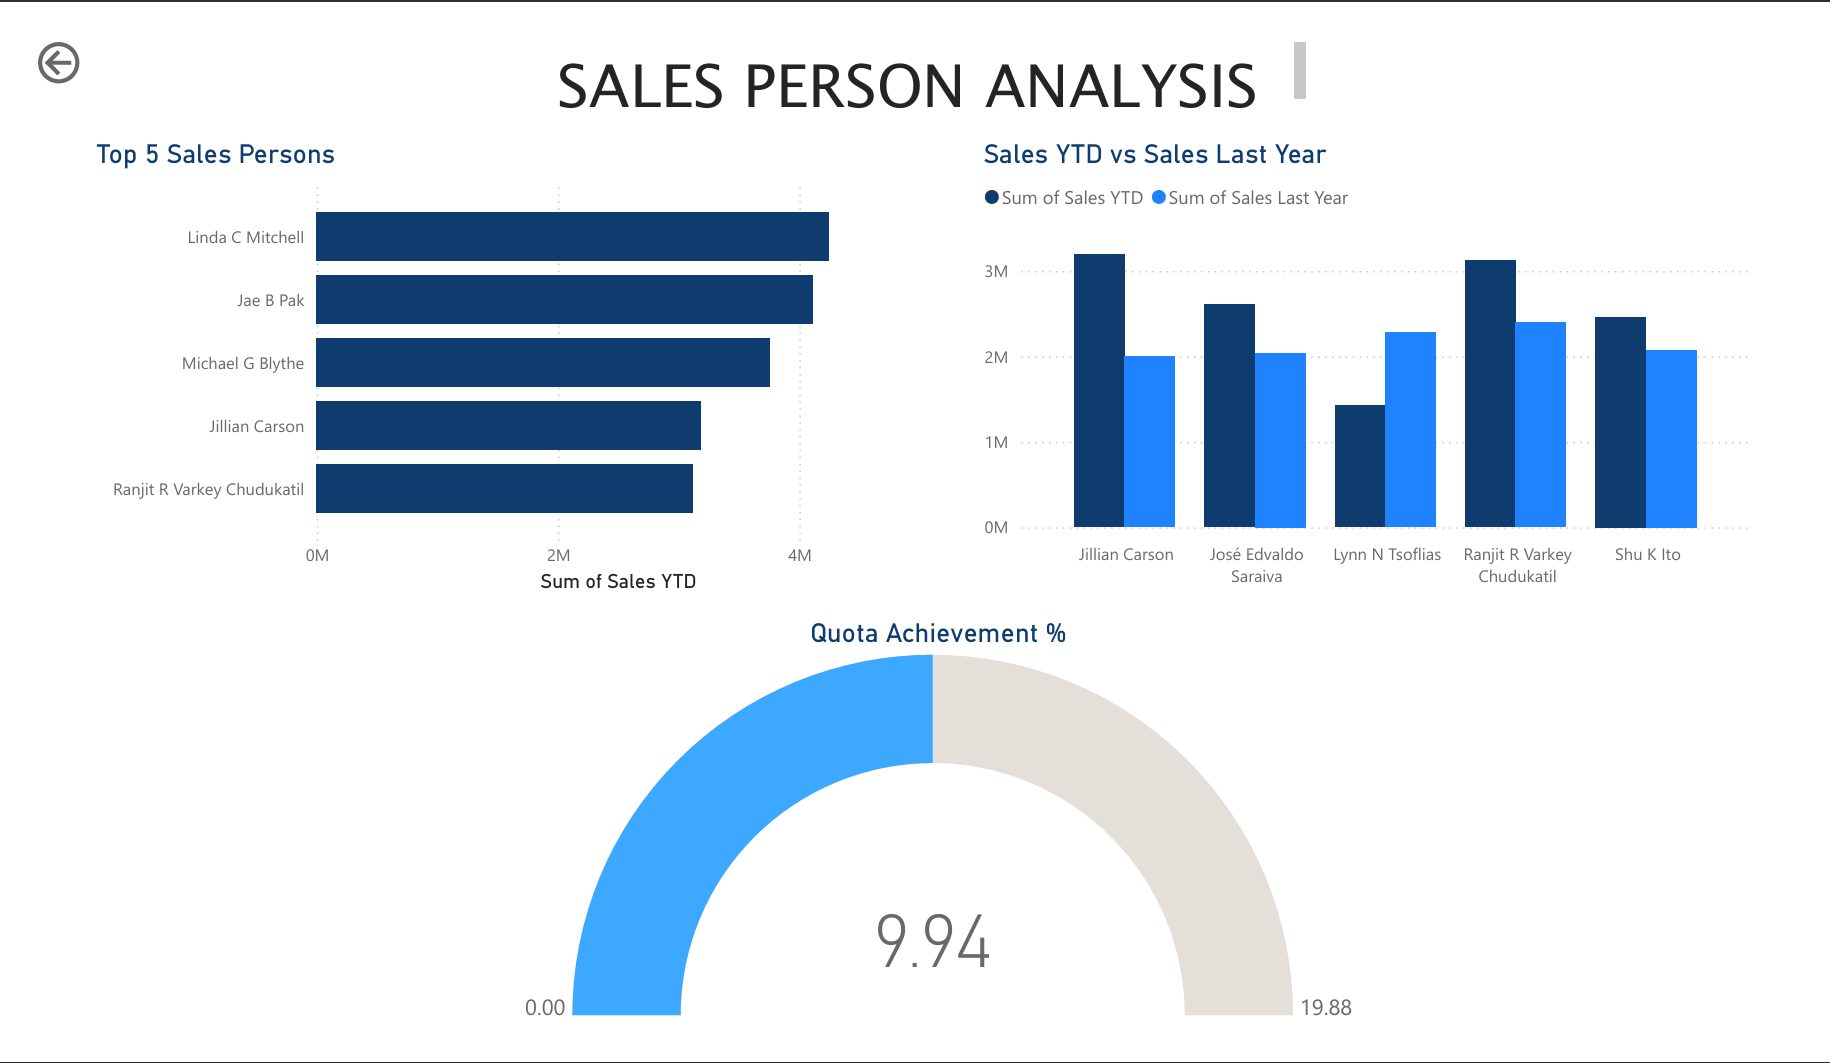

The page's visual inventory and layout, read from the dashboard file:
{"tool":"powerbi","page":{"name":"Page 3","canvas":[1280,720],"ordinal":2},"visuals":[{"type":"textbox","box":[350,0,578.3,61.7],"z":0},{"type":"clusteredBarChart","title":"Top 5 Sales Persons","fields":{"Category":["AW SalesPersons.Name"],"Y":["Sum(AW SalesPersons.SalesYTD)"]},"box":[41.7,75,616.7,333.3],"z":1000},{"type":"gauge","fields":{"Y":["AW SalesPersons.Quota Achievement %"]},"box":[346.7,421.7,621.7,298.3],"z":2000},{"type":"clusteredColumnChart","title":"Sales YTD vs Sales Last Year ","fields":{"Category":["AW SalesPersons.Name"],"Y":["Sum(AW SalesPersons.SalesYTD)","Sum(AW SalesPersons.SalesLastYear)"]},"box":[685,75,566.7,333.3],"z":3000},{"type":"actionButton","box":[0,0,100,40],"z":4000}]}

Visuals, with their boxes on the page's 1280x720 design canvas (x1, y1, x2, y2). These are canvas units, not pixel positions in the 1830x1063 screenshot, which may show the page scaled, cropped or inside an application window:
textbox: select_region(350, 0, 928, 62)
"Top 5 Sales Persons" clusteredBarChart: select_region(42, 75, 658, 408)
gauge - AW SalesPersons.Quota Achievement %: select_region(347, 422, 968, 720)
"Sales YTD vs Sales Last Year " clusteredColumnChart: select_region(685, 75, 1252, 408)
actionButton: select_region(0, 0, 100, 40)
